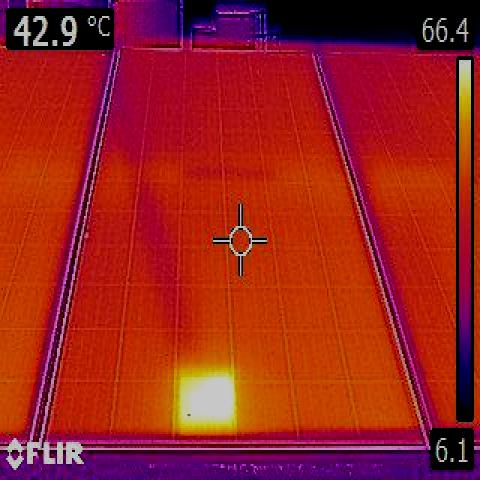fault: (181, 377, 234, 435)
